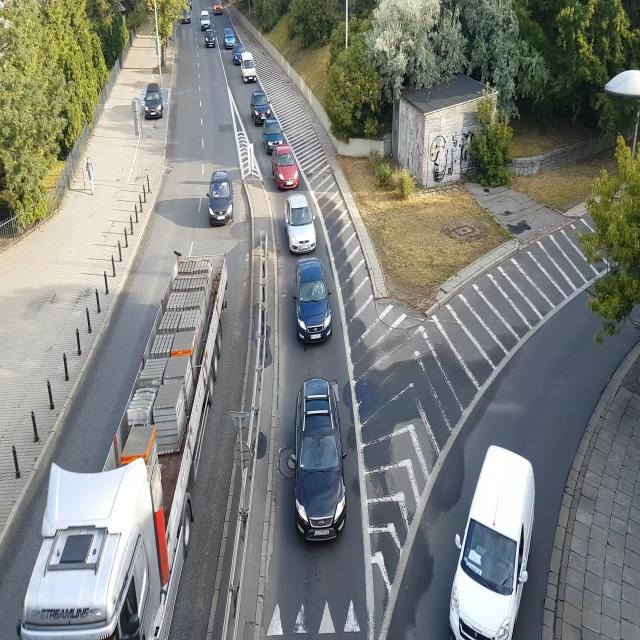car: (447, 431, 533, 640), (293, 373, 349, 550), (292, 256, 334, 346), (284, 194, 316, 253), (208, 171, 236, 226), (273, 143, 301, 190), (264, 117, 286, 153), (142, 88, 164, 120), (252, 91, 272, 121), (179, 8, 194, 28), (224, 28, 238, 48), (240, 68, 256, 81), (200, 13, 212, 30), (203, 31, 215, 47), (233, 52, 244, 65), (214, 4, 224, 15)
truck: (17, 249, 239, 638)
